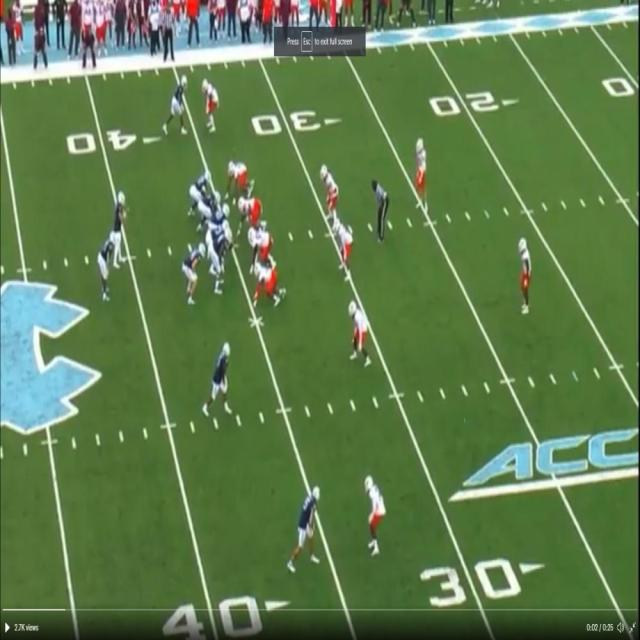center: (210, 205, 232, 227)
db: (364, 475, 386, 550), (519, 236, 535, 315), (350, 298, 370, 358), (417, 135, 429, 202), (202, 78, 218, 128)
lb: (337, 222, 355, 278), (324, 163, 340, 213)
qb: (112, 192, 127, 264)
skill: (292, 484, 325, 574), (207, 347, 230, 415), (99, 230, 115, 300), (182, 250, 200, 306), (168, 79, 185, 128)
